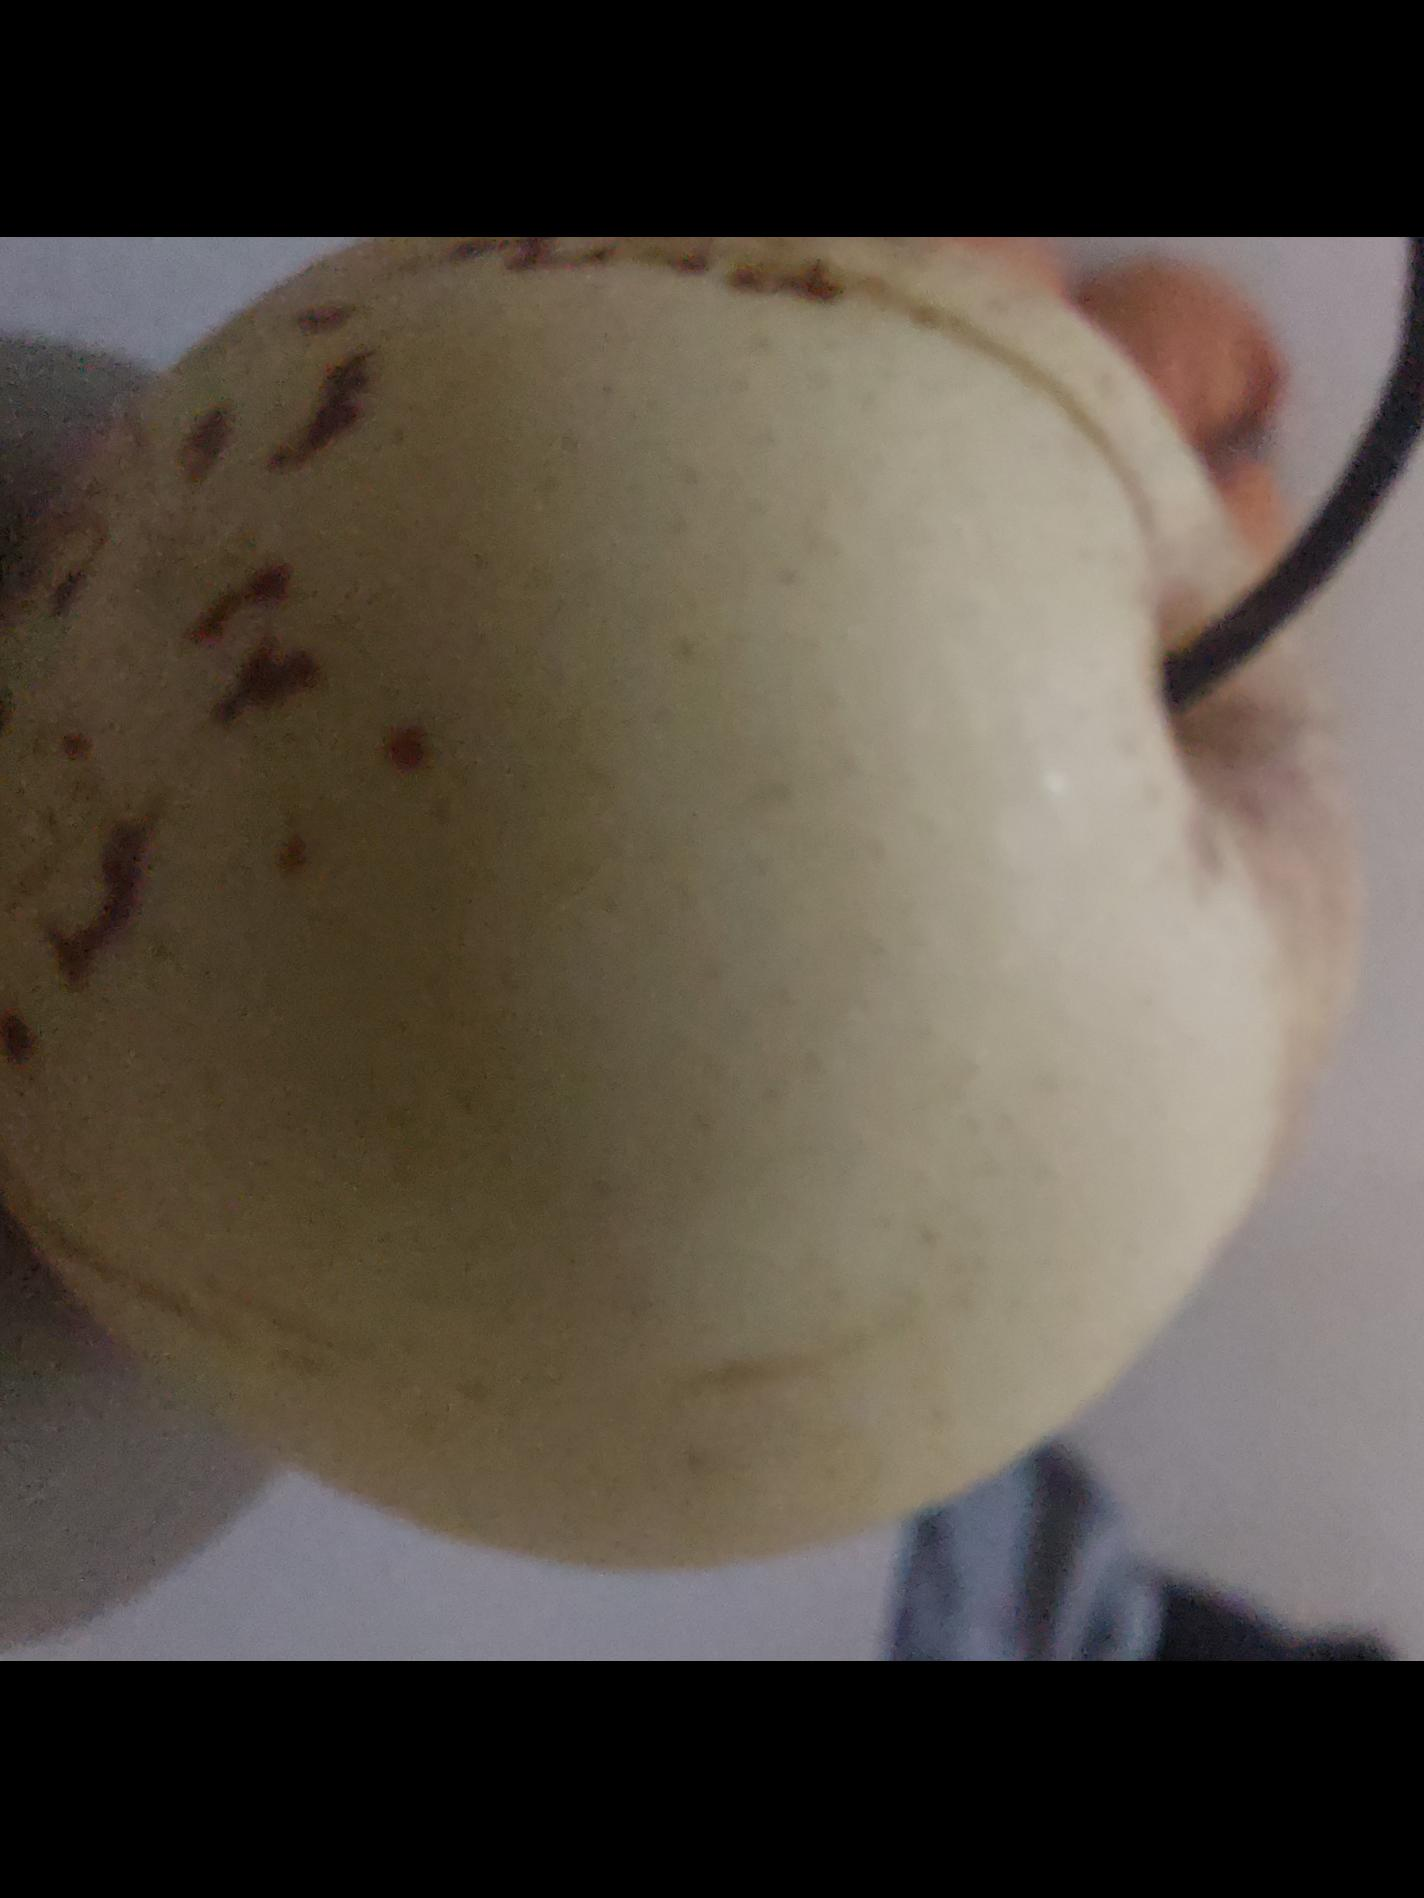Bad Pear: (0, 237, 1359, 1586)
